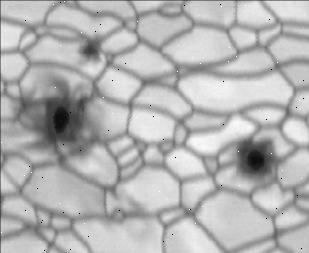good_void: (3, 71, 99, 160), (218, 133, 282, 182), (74, 30, 114, 71)
